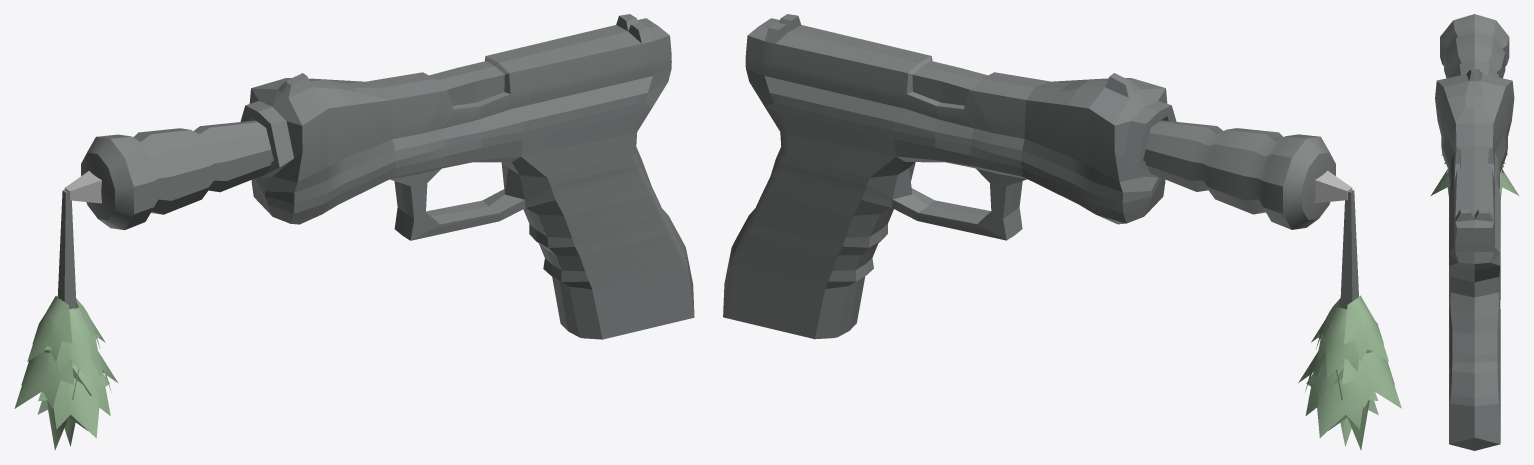
Rendered from Pistola zanahoria.fbx.
The picture shows the model from 3 angles, left to right: view 1: azimuth 30°, elevation 25°; view 2: azimuth 150°, elevation 25°; view 3: azimuth 270°, elevation 25°; orthographic projection. The views are drawn at different scales.
Visible parts, largest first — view 1: polySurface6, polySurface1, pPlane7, pPlane6, polySurface2, pPlane1, pPlane5, polySurface3; view 2: polySurface6, polySurface1, pPlane7, pPlane6, polySurface2, pPlane1, pPlane5, polySurface3; view 3: polySurface6, polySurface1, pPlane7.
Boxes of the visible parts, <box> form: polySurface6: <box>240,14,694,339</box>; polySurface1: <box>81,120,273,230</box>; pPlane7: <box>38,357,110,438</box>; pPlane6: <box>14,351,118,408</box>; polySurface2: <box>57,190,76,309</box>; pPlane1: <box>27,296,72,361</box>; pPlane5: <box>45,307,99,377</box>; polySurface3: <box>64,171,101,203</box>; polySurface6: <box>723,14,1176,339</box>; polySurface1: <box>1143,120,1335,229</box>; pPlane7: <box>1305,356,1378,437</box>; pPlane6: <box>1298,351,1401,408</box>; polySurface2: <box>1340,189,1358,309</box>; pPlane1: <box>1344,295,1388,361</box>; pPlane5: <box>1316,306,1371,377</box>; polySurface3: <box>1314,170,1352,203</box>; polySurface6: <box>1435,69,1514,450</box>; polySurface1: <box>1440,14,1509,78</box>; pPlane7: <box>1431,169,1518,198</box>.
Size of the model in its own units: 54.99 by 25.81 by 8.45.
